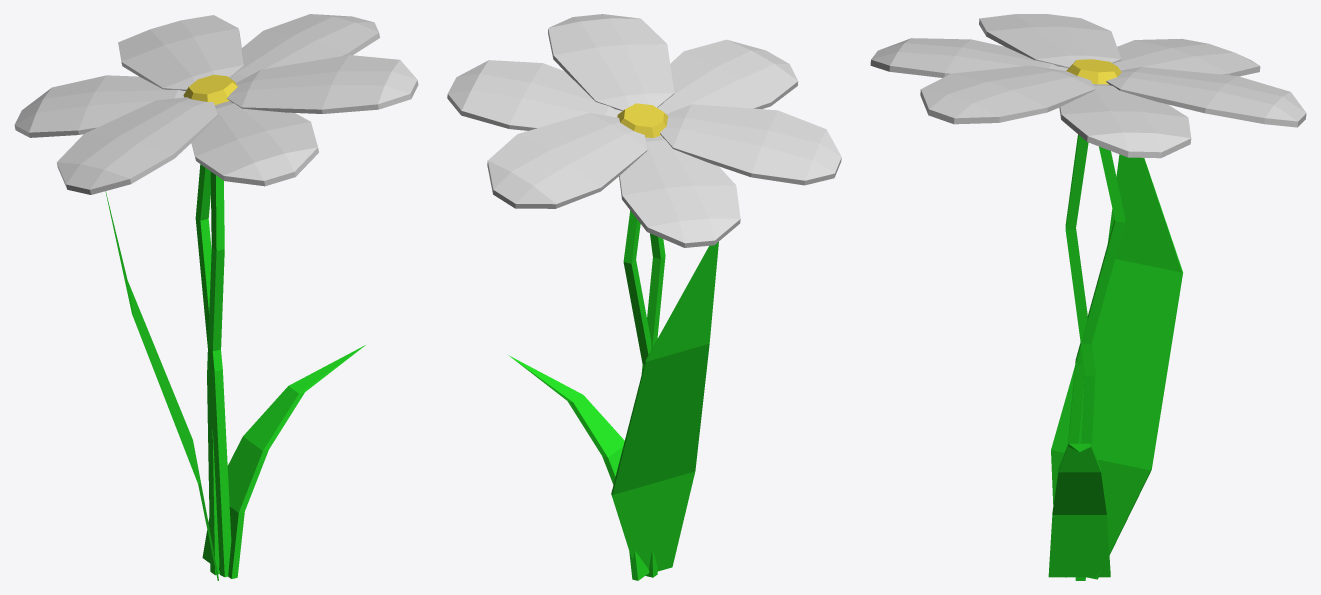
File: flower.fbx
The picture shows the model from 3 angles, left to right: view 1: azimuth 30°, elevation 25°; view 2: azimuth 150°, elevation 25°; view 3: azimuth 270°, elevation 25°; orthographic projection. The views are drawn at different scales.
Parts seen in each view (by area): view 1: Cube.003, Cube.001, Cube.002, Cube.006, Cube.005, Cube.004, Cube.009, Cube, Cube.007, Cube.008; view 2: Cube.008, Cube.006, Cube.003, Cube.005, Cube.001, Cube.004, Cube.002, Cube.009, Cube, Cube.007; view 3: Cube.008, Cube.001, Cube.006, Cube.009, Cube.004, Cube.003, Cube.002, Cube, Cube.005, Cube.007.
Boxes of the visible parts, x1,y1,x2,y2 form: Cube.003: (56,97,217,194); Cube.001: (227,55,418,113); Cube.002: (191,101,318,186); Cube.006: (118,15,244,90); Cube.005: (14,75,185,137); Cube.004: (230,14,379,82); Cube.009: (202,345,365,578); Cube: (183,74,237,575); Cube.007: (195,164,231,577); Cube.008: (105,191,218,580); Cube.008: (611,242,718,574); Cube.006: (487,113,647,208); Cube.003: (660,104,841,185); Cube.005: (619,135,740,247); Cube.001: (548,14,674,110); Cube.004: (447,60,622,130); Cube.002: (657,39,798,114); Cube.009: (508,355,649,580); Cube: (617,103,668,577); Cube.007: (623,210,651,364); Cube.008: (1051,154,1183,579); Cube.001: (920,65,1095,124); Cube.006: (1106,67,1306,127); Cube.009: (1048,443,1110,577); Cube.004: (1059,84,1191,158); Cube.003: (979,14,1121,67); Cube.002: (870,38,1068,77); Cube: (1065,59,1121,580); Cube.005: (1113,38,1260,76); Cube.007: (1065,146,1125,577).
Size of the model in its own units: 339 by 468 by 343.
